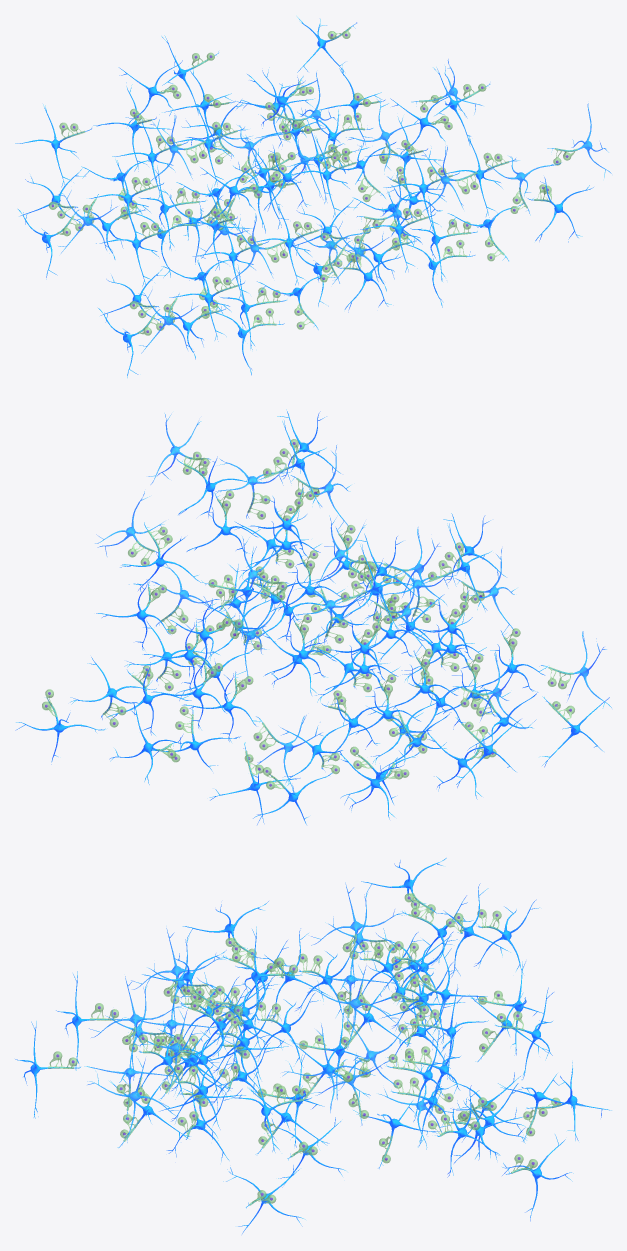
File: neuronal-environment.glb
3 views of the same model, one above another, from view 1: azimuth 30°, elevation 25°; view 2: azimuth 150°, elevation 25°; view 3: azimuth 270°, elevation 25° (orthographic). The views are drawn at different scales.
Bounding box in the file's own units: 0.544 × 0.33 × 0.5589.
